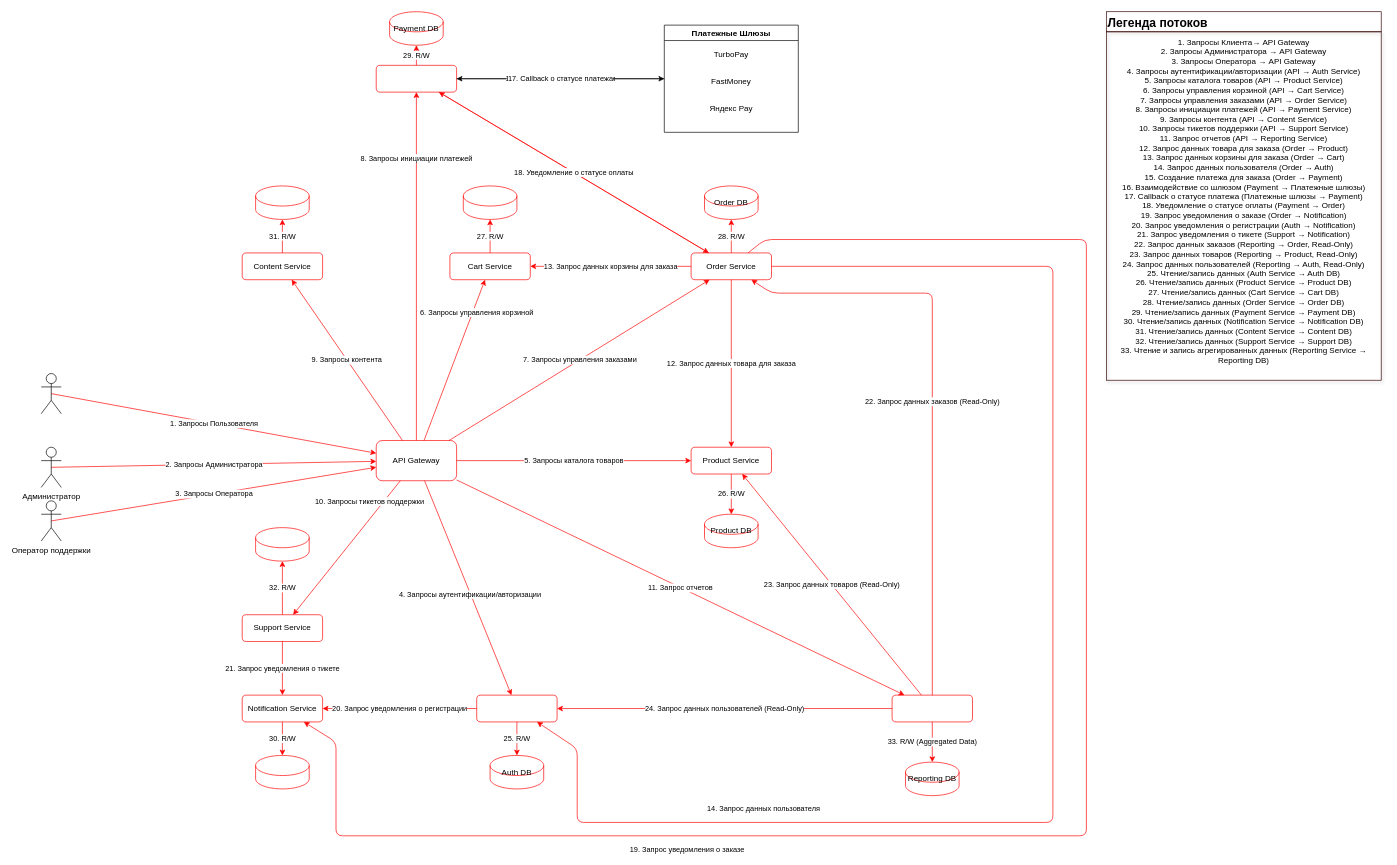
Some shapes in this 1397 by 865 pixel diagram are drawn without their labels. Each missing label, with the centre of its shape:
"Auth Service" goes at point 516,708.
"Cart DB" goes at point 490,202.
"Content DB" goes at point 282,202.
"Notification DB" goes at point 282,772.
"Payment Service" goes at point 416,78.
"Reporting Service" goes at point 932,708.
"Support DB" goes at point 282,544.
"Клиент" goes at point 51,393.
